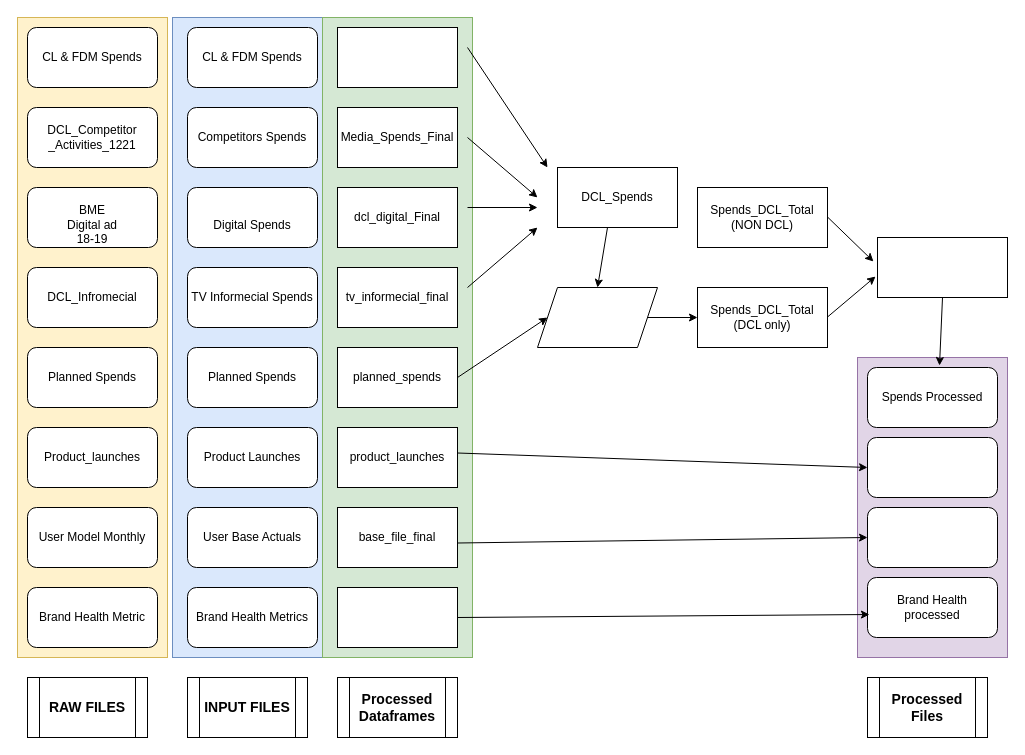
The diagram is 1025 pixels wide and 755 high, and some of its shapes have lost their labels. The centre of each missing label's shape, as x and y in pixels:
"Base Input processed" goes at point 932,537.
"brand_health_final" goes at point 397,617.
"DCL_clfdm_Final" goes at point 397,57.
"Outer Join" goes at point 597,317.
"Product Processed" goes at point 932,467.
"Spends_Final" goes at point 942,267.
